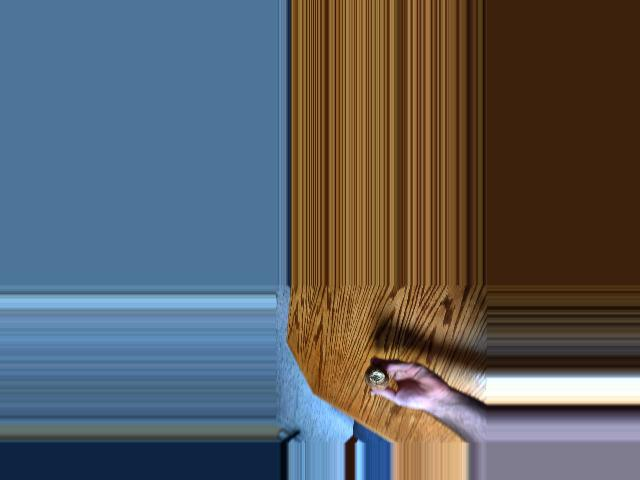sweet_potato: (358, 369, 389, 392)
